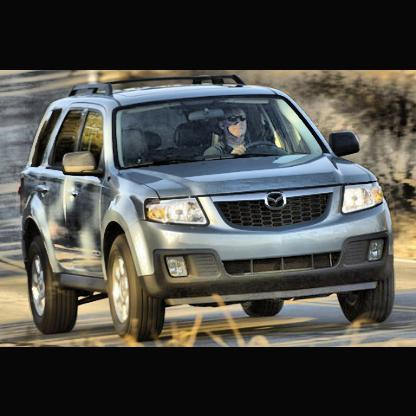Mazda Tribute SUV 2011: (20, 73, 397, 343)
